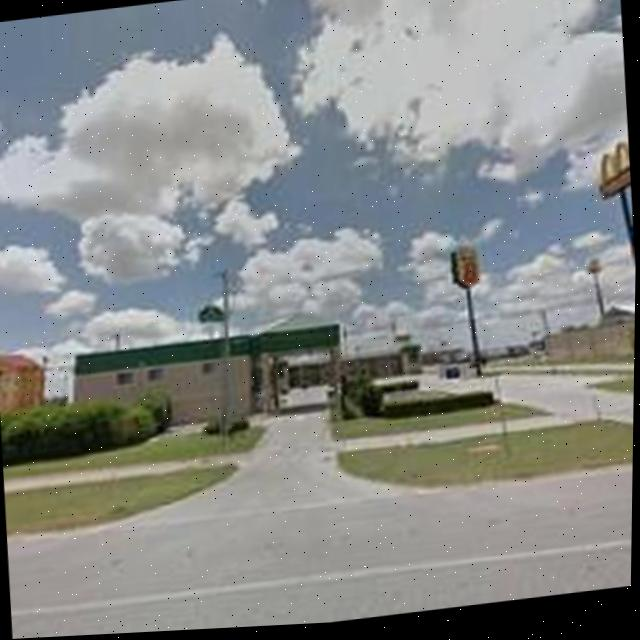building: (69, 317, 349, 437), (539, 297, 635, 370), (0, 344, 49, 414)
